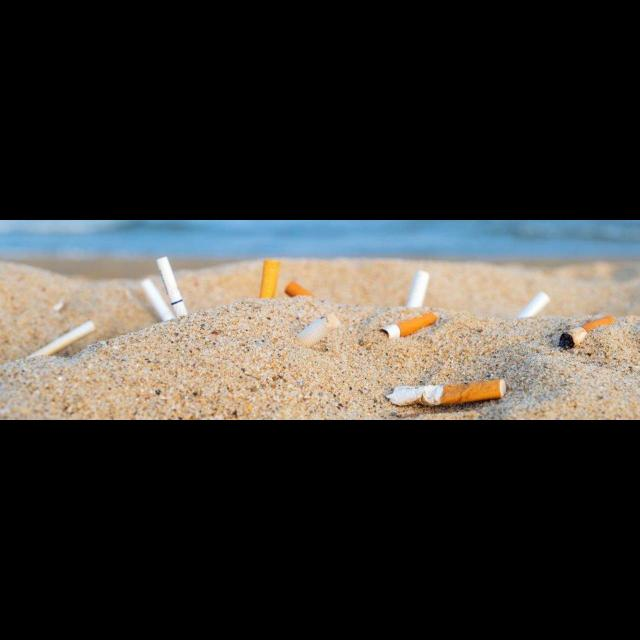cigarette: (386, 379, 506, 407), (26, 320, 100, 360), (156, 256, 188, 318), (559, 316, 616, 349), (379, 312, 437, 339), (141, 279, 176, 322), (406, 271, 431, 308), (517, 292, 550, 318), (259, 260, 280, 299), (285, 281, 317, 297)
